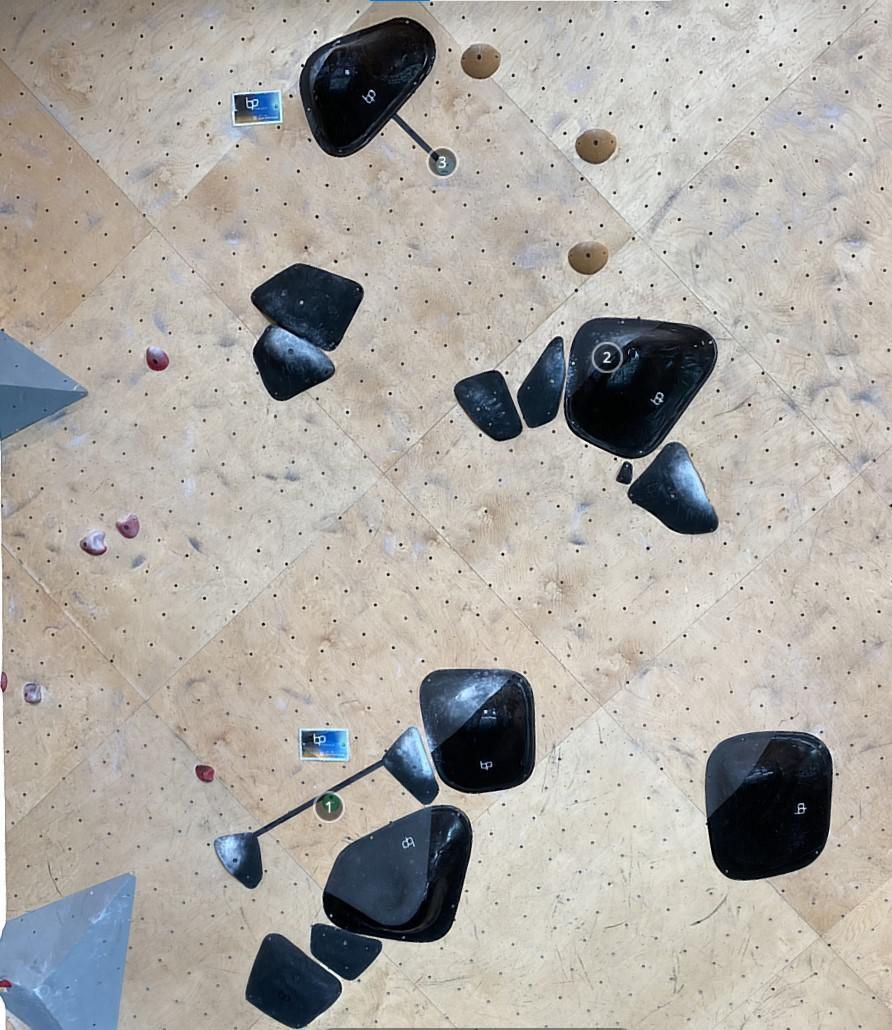hold: (563, 318, 717, 458), (323, 805, 472, 942), (300, 17, 436, 157), (706, 731, 832, 880), (420, 669, 535, 793), (251, 263, 363, 351), (245, 934, 342, 1028), (628, 442, 718, 534), (253, 324, 335, 400), (454, 370, 522, 440), (381, 726, 439, 804), (518, 336, 565, 427), (311, 924, 382, 980), (214, 832, 262, 889), (575, 128, 616, 164), (461, 43, 501, 79), (569, 241, 608, 274), (79, 530, 106, 555), (116, 513, 139, 538), (146, 346, 169, 371), (23, 683, 42, 704), (616, 461, 633, 484), (195, 765, 214, 782), (1, 672, 7, 692), (0, 979, 12, 987)
volume: (0, 872, 136, 1030), (0, 329, 88, 441)
